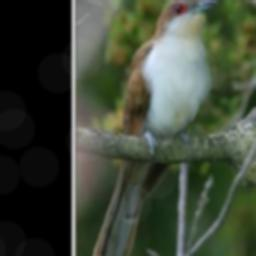Cuckoo: (83, 0, 219, 256)
